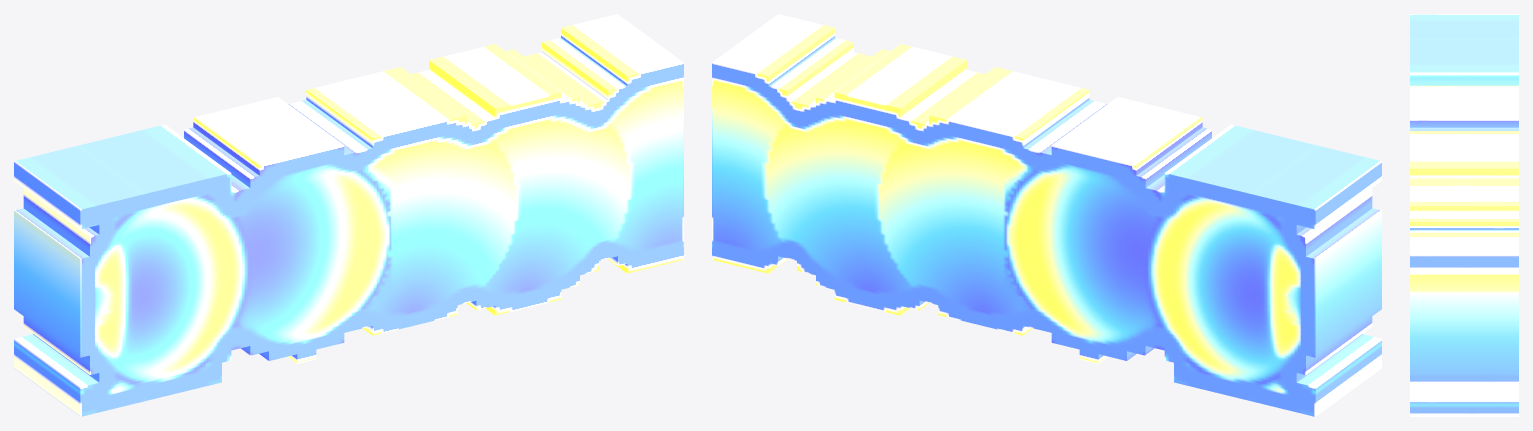
Rendered from Pede.glb.
The picture shows the model from 3 angles, left to right: view 1: azimuth 30°, elevation 25°; view 2: azimuth 150°, elevation 25°; view 3: azimuth 270°, elevation 25°; orthographic projection. The views are drawn at different scales.
Parts seen in each view (by area): view 1: NEOPEDELEFT_voxel; view 2: NEOPEDELEFT_voxel; view 3: NEOPEDELEFT_voxel.
Boxes of the visible parts, x1,y1,x2,y2 form: NEOPEDELEFT_voxel: (14, 14, 683, 416); NEOPEDELEFT_voxel: (712, 14, 1381, 416); NEOPEDELEFT_voxel: (1410, 14, 1518, 416).
Size of the model in its own units: 3.51 by 1.15 by 0.669.
